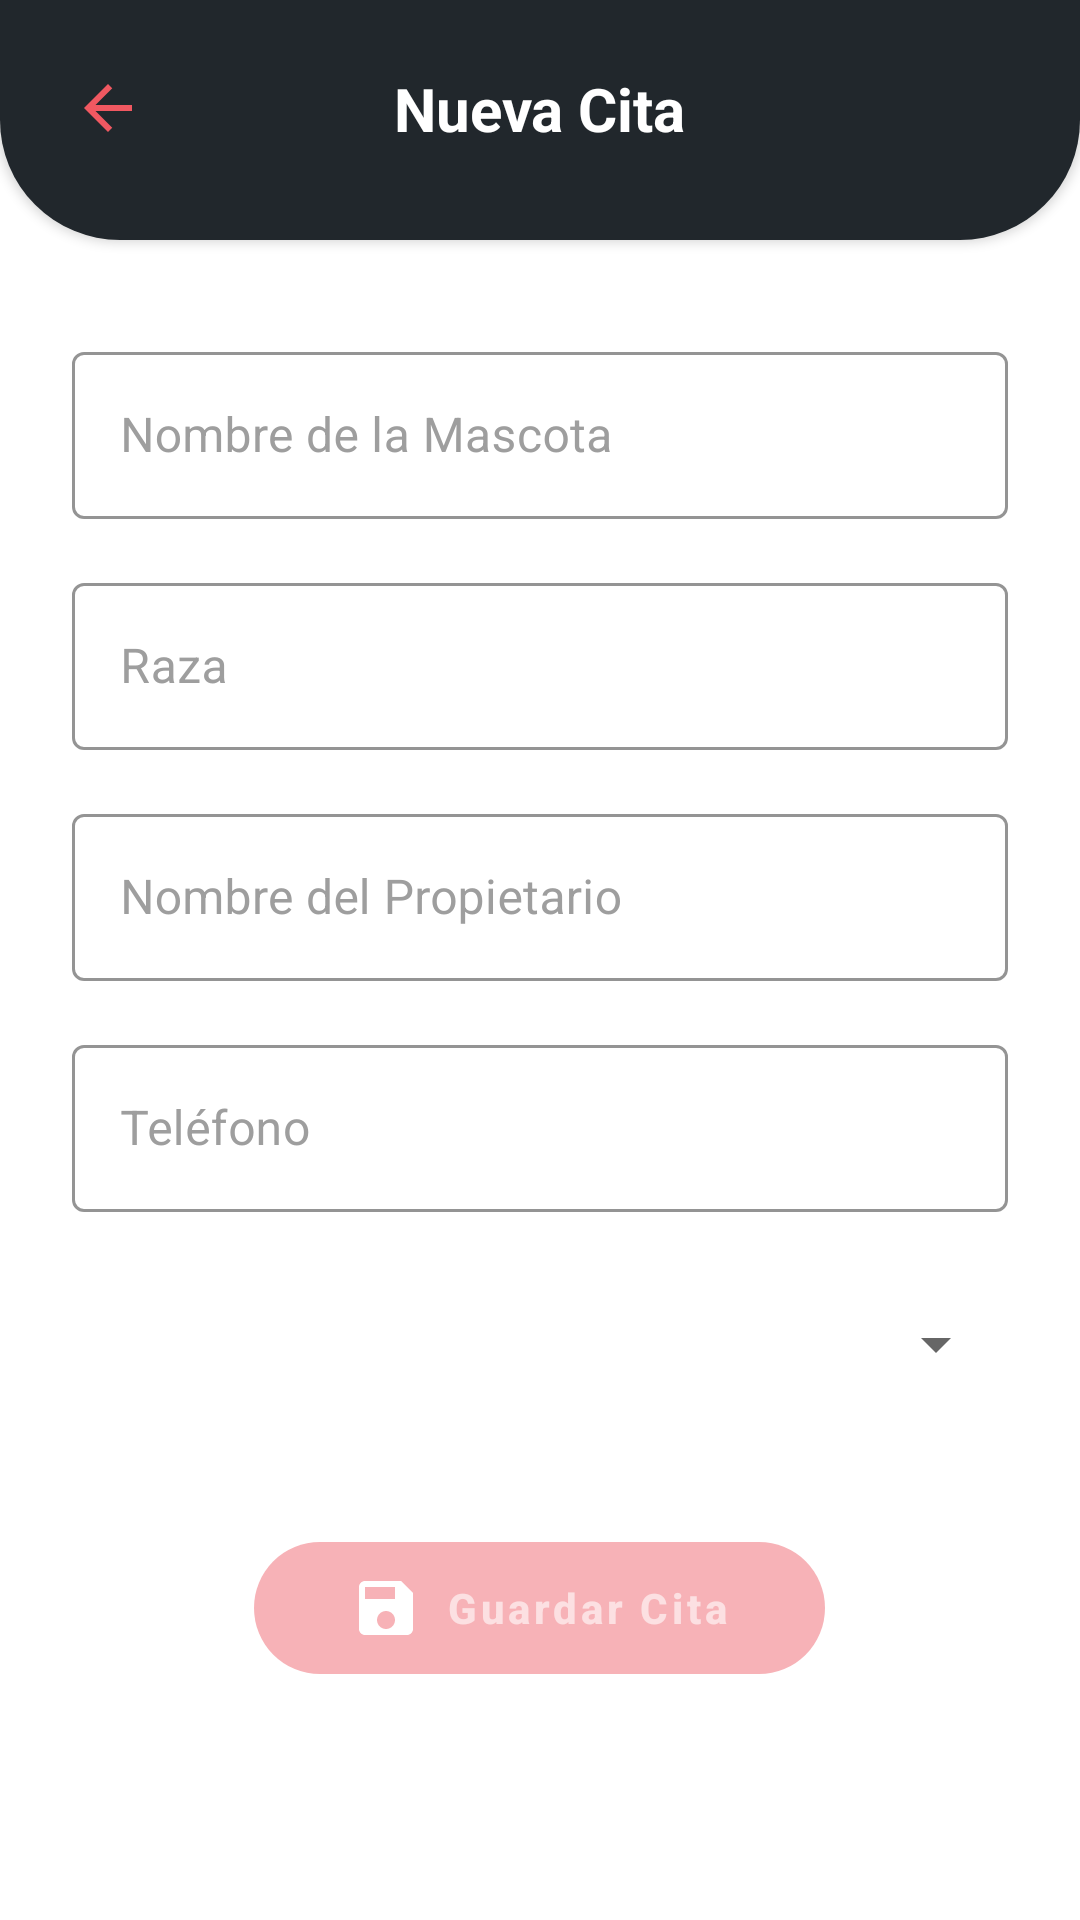

Named icons in this screenshot (1080px x 1920px) and their bounding boxes, (x1, y1, x2, y2):
Volver: (84, 84, 132, 132)
